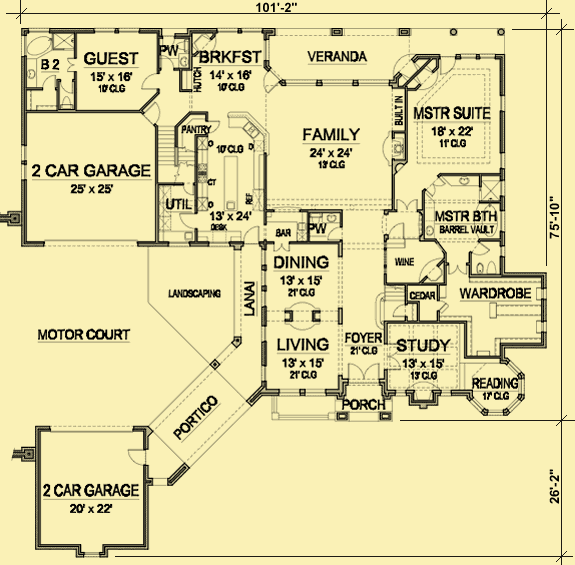door: (346, 361, 383, 379), (122, 446, 152, 467), (386, 338, 402, 373), (434, 53, 458, 76), (392, 196, 423, 211), (260, 68, 280, 91), (426, 178, 447, 199), (141, 99, 159, 123), (240, 225, 262, 244), (443, 260, 469, 276), (389, 221, 408, 242), (139, 72, 158, 92), (177, 210, 197, 229), (56, 77, 77, 94), (41, 72, 57, 91), (471, 243, 493, 256), (326, 223, 341, 241), (393, 298, 405, 319), (270, 240, 290, 252)
large sink: (58, 91, 76, 111)
small sink: (25, 57, 40, 91), (446, 176, 480, 187), (424, 218, 434, 239)
stairs: (152, 124, 194, 184)
tub: (26, 35, 56, 58)
windows: (89, 23, 142, 41), (272, 385, 331, 400), (214, 23, 265, 39), (498, 148, 512, 170), (498, 88, 507, 116)
